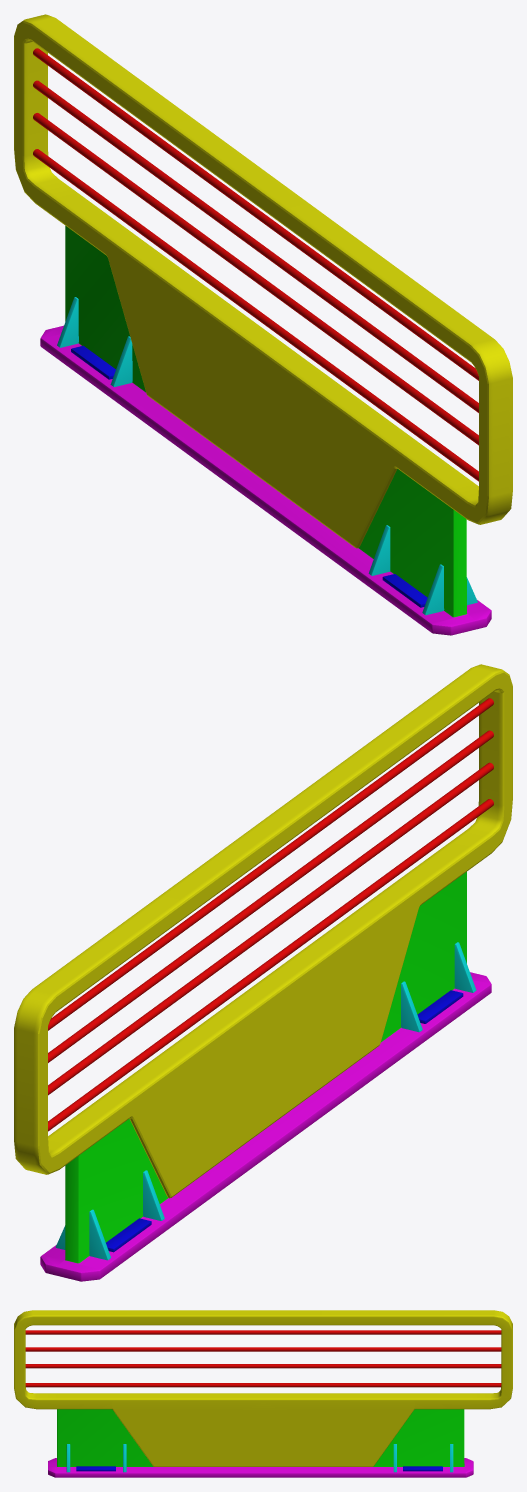
Rendered from Railings.fbx.
3 views of the same model, one above another, from view 1: azimuth 30°, elevation 25°; view 2: azimuth 150°, elevation 25°; view 3: azimuth 270°, elevation 25° (orthographic). The views are drawn at different scales.
Parts seen in each view (by area): view 1: Railings; view 2: Railings; view 3: Railings.
Part boxes in pixels (bbox=[...]): Railings: bbox=[14, 14, 512, 635]; Railings: bbox=[14, 664, 512, 1281]; Railings: bbox=[14, 1310, 512, 1477].
Size of the model in its own units: 23.61 by 113 by 326.
